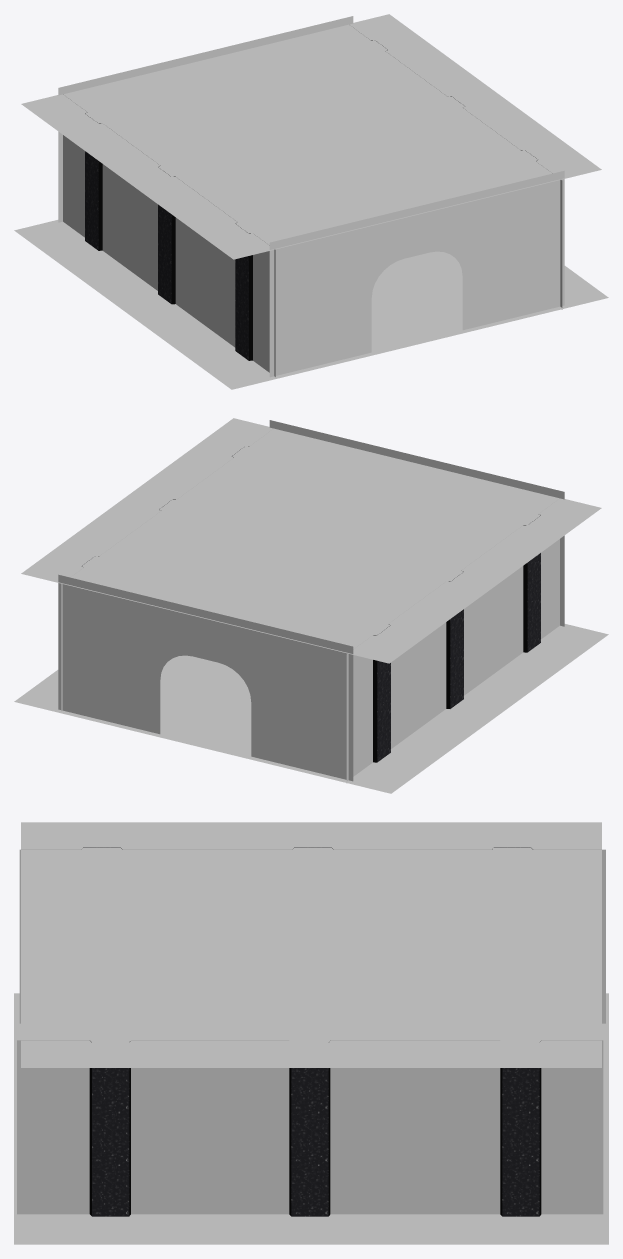
Rendered from lc_room2_servers.gltf.
3 renders of one model, top to bottom at view 1: azimuth 30°, elevation 25°; view 2: azimuth 150°, elevation 25°; view 3: azimuth 270°, elevation 25°, orthographic. The views are drawn at different scales.
Parts seen in each view (by area): view 1: Ceiling, DoorPath.002, Floor.001, LCZWallNeoCB2.002, DoorPath.003; view 2: Ceiling, DoorPath.003, LCZWallNeoCB2.002, Floor.001, DoorPath.002; view 3: Ceiling, LCZWallNeoCB2.001, Floor.001, LCZWallNeoCB2.002.
Boxes of the visible parts, bbox=[...] form: Ceiling: bbox=[21, 14, 601, 259]; DoorPath.002: bbox=[269, 170, 564, 377]; Floor.001: bbox=[14, 220, 608, 389]; LCZWallNeoCB2.002: bbox=[63, 94, 275, 376]; DoorPath.003: bbox=[58, 16, 353, 222]; Ceiling: bbox=[21, 418, 601, 663]; DoorPath.003: bbox=[58, 574, 353, 781]; LCZWallNeoCB2.002: bbox=[346, 498, 559, 783]; Floor.001: bbox=[14, 624, 608, 793]; DoorPath.002: bbox=[269, 420, 564, 626]; Ceiling: bbox=[21, 822, 601, 1067]; LCZWallNeoCB2.001: bbox=[17, 1040, 603, 1216]; Floor.001: bbox=[14, 993, 608, 1244]; LCZWallNeoCB2.002: bbox=[19, 847, 605, 1023].
Size of the model in its own units: 20.48 by 7.1 by 20.48.
